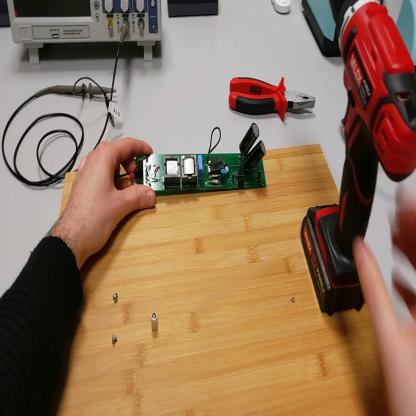electric screwdriver: (302, 2, 416, 318)
hand: (354, 182, 416, 410), (66, 137, 157, 259)
high voltage board: (119, 124, 272, 198)
oscilloscope: (7, 1, 166, 66)
oscilloscope probe tip: (51, 78, 118, 101)
pliers: (229, 70, 319, 125)
welder base: (398, 4, 415, 62)
welder station: (303, 4, 344, 60)
working area: (50, 145, 391, 415)
